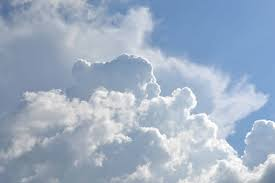sky: (2, 2, 271, 183)
